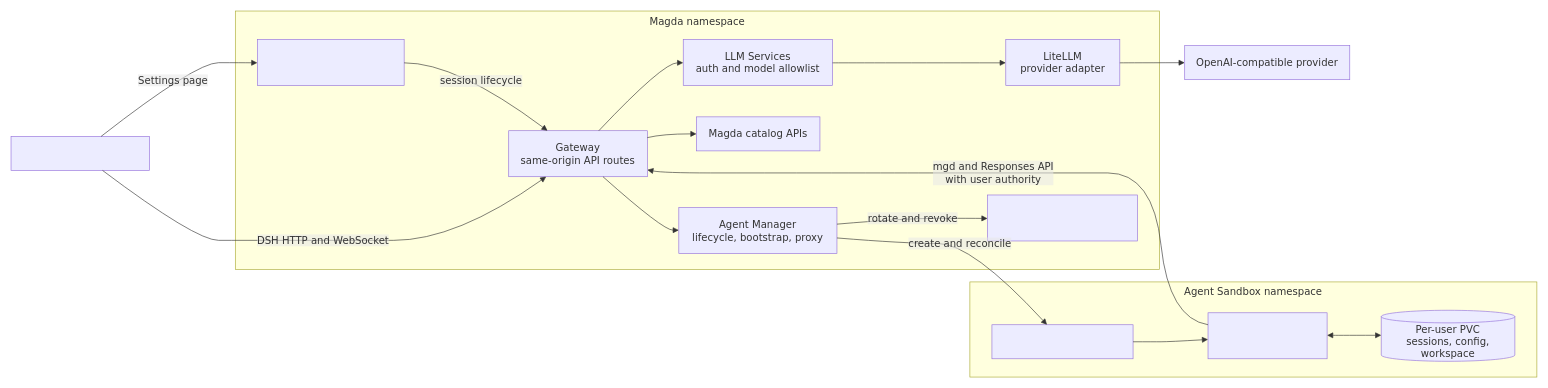
The diagram is 1548 pixels wide and 388 high, and some of its shapes have lost their labels. Each missing label, with the centre of its shape:
Administrator browser: the point at 80,153
Agent Runtime DSH Web and mgd: the point at 1267,335
Authorization API and DB managed user API keys: the point at 1062,217
Magda Web Settings and lifecycle UI: the point at 330,62
Per-user SandboxClaim: the point at 1062,341
